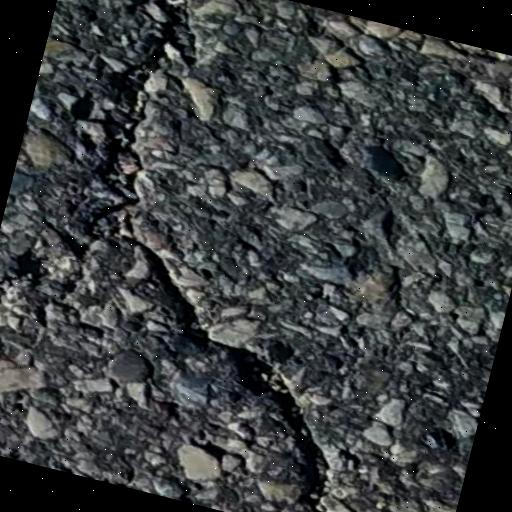spalling: (99, 0, 347, 512)
